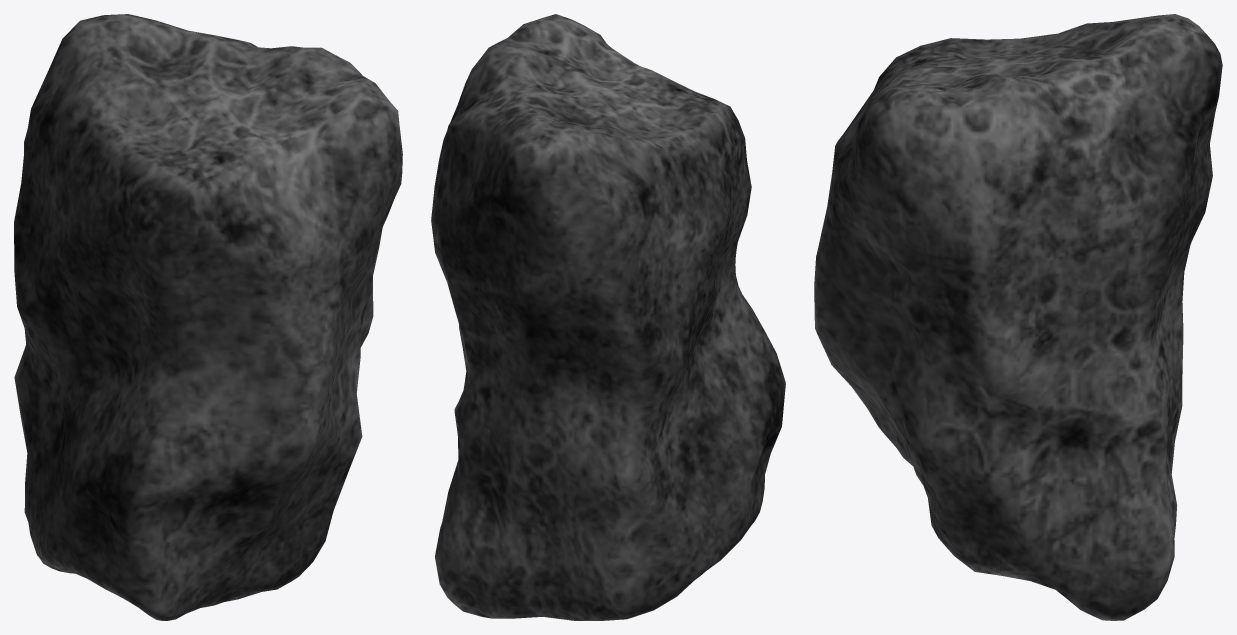
Rendered from asteroid3.glb.
The picture shows the model from 3 angles, left to right: view 1: azimuth 30°, elevation 25°; view 2: azimuth 150°, elevation 25°; view 3: azimuth 270°, elevation 25°; orthographic projection. The views are drawn at different scales.
Visible parts, largest first — view 1: Asteroid_no_9; view 2: Asteroid_no_9; view 3: Asteroid_no_9.
Part boxes in pixels (x1,y1,x2,y2): Asteroid_no_9: [14, 14, 402, 620]; Asteroid_no_9: [431, 14, 785, 620]; Asteroid_no_9: [814, 14, 1222, 620].
Bounding box in the file's own units: 5.29 × 9.09 × 6.1.
Materials: 1 (1 with a texture image).
